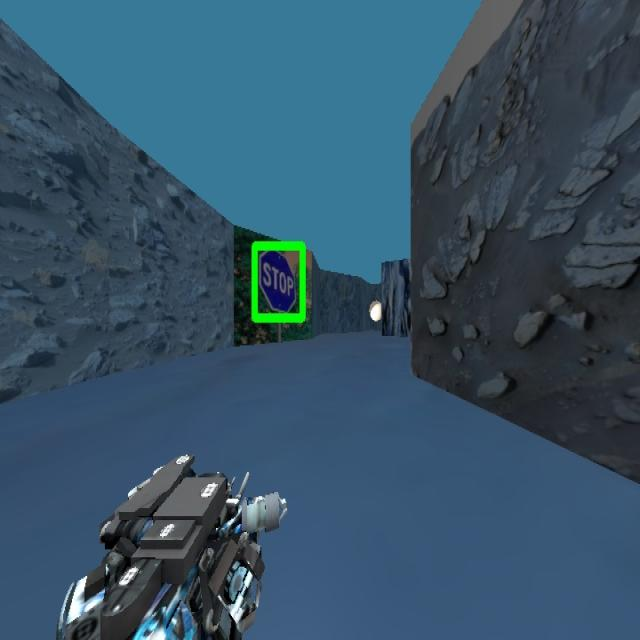Circle: (368, 299, 381, 321)
Stop_Sign: (250, 239, 306, 324)
